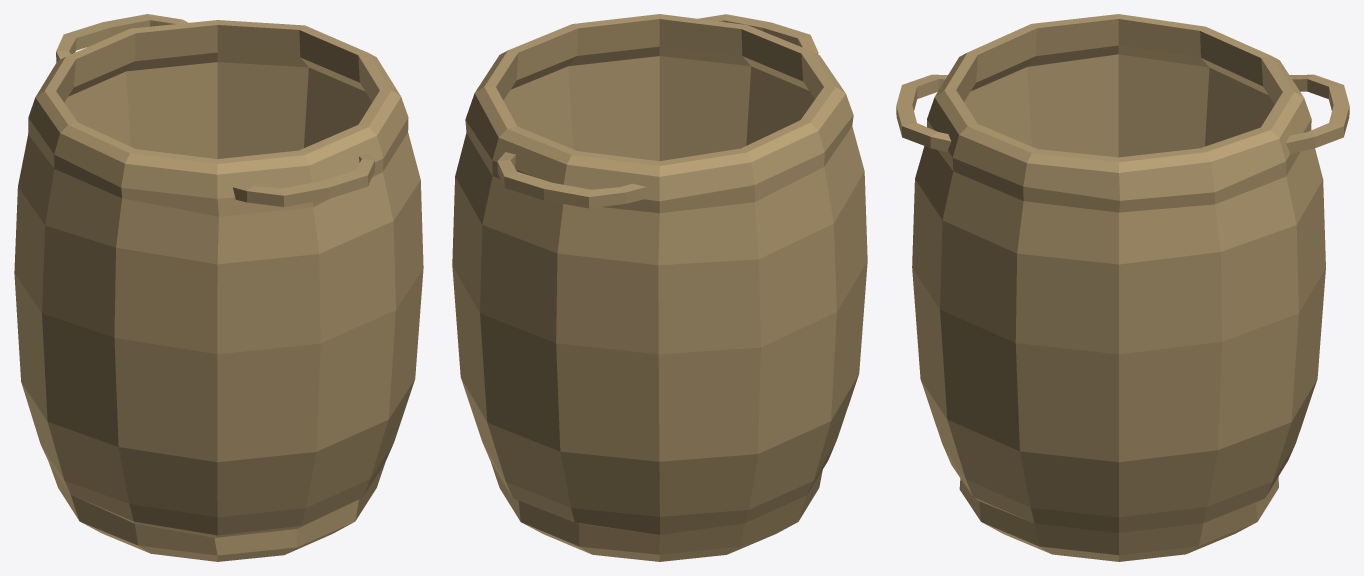
Rendered from SM_Prop_Basket_01.fbx.
3 renders of one model, left to right at view 1: azimuth 30°, elevation 25°; view 2: azimuth 150°, elevation 25°; view 3: azimuth 270°, elevation 25°, orthographic.
Parts seen in each view (by area): view 1: SM_Prop_Basket_01; view 2: SM_Prop_Basket_01; view 3: SM_Prop_Basket_01.
Part boxes in pixels (x1,y1,x2,y2): SM_Prop_Basket_01: [14, 14, 423, 561]; SM_Prop_Basket_01: [452, 14, 867, 561]; SM_Prop_Basket_01: [896, 14, 1349, 561].
Size of the model in its own units: 93 by 105 by 103.
